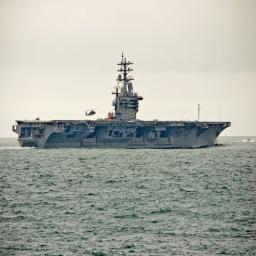Portanaves: (13, 51, 233, 151)
